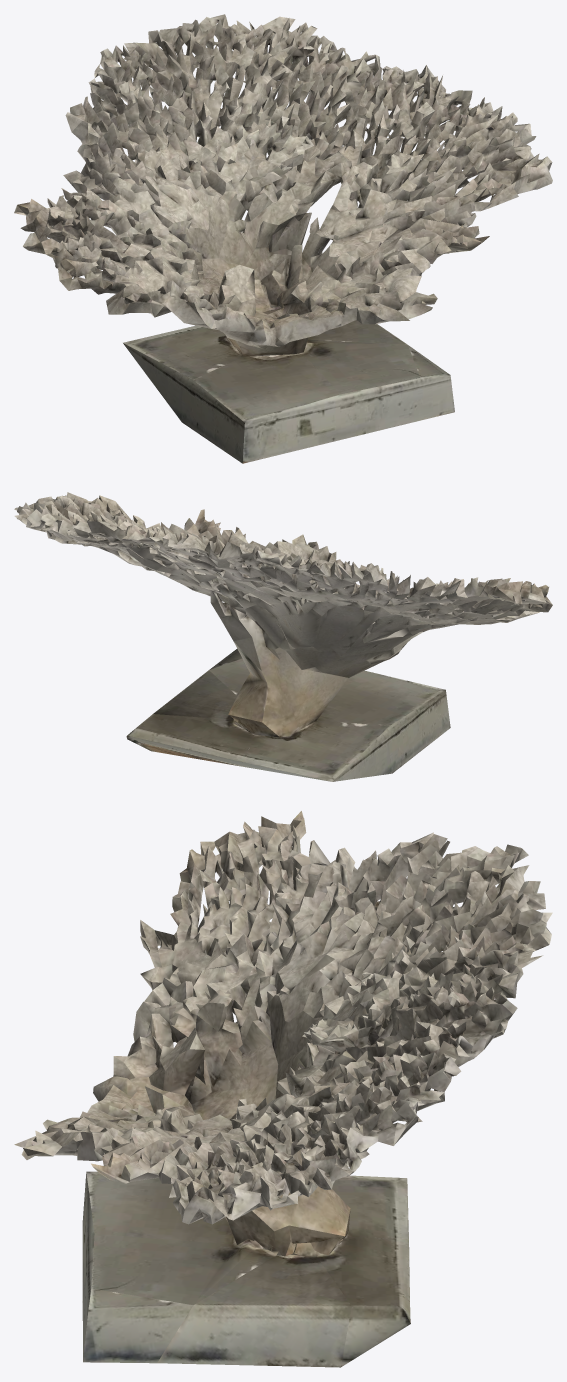
File: coral-table.glb
3 views of the same model, one above another, from view 1: azimuth 30°, elevation 25°; view 2: azimuth 150°, elevation 25°; view 3: azimuth 270°, elevation 25° (orthographic). The views are drawn at different scales.
Visible parts, largest first — view 1: Object_4; view 2: Object_4; view 3: Object_4.
Boxes of the visible parts, bbox=[...] form: Object_4: bbox=[14, 14, 552, 463]; Object_4: bbox=[14, 492, 552, 781]; Object_4: bbox=[14, 811, 552, 1367].
Bounding box in the file's own units: 0.6276 × 0.34 × 0.4134.
1 material, 1 textured.
